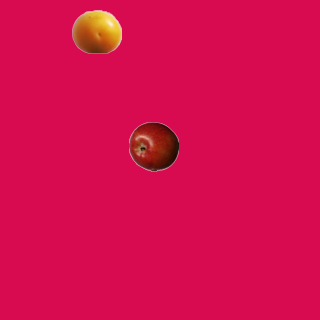Apple Braeburn: (128, 121, 178, 171)
Cherry Wax Yellow: (71, 6, 121, 56)
